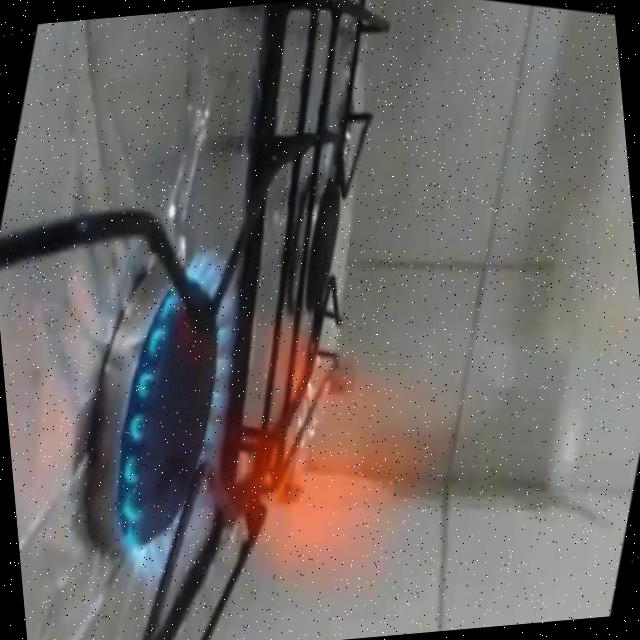fire: (63, 194, 521, 640)
